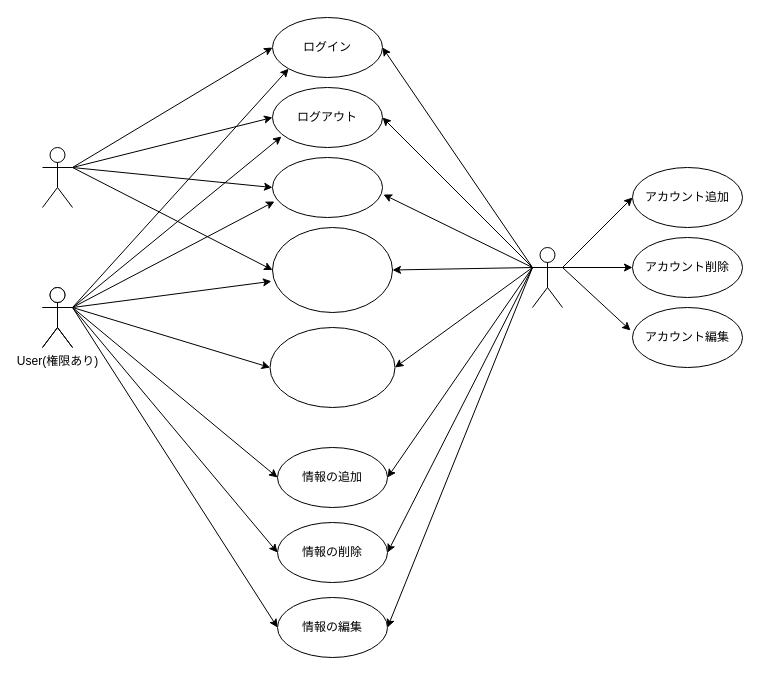
This 760x675 diagram has some shape labels left out. The box of each missing label's shape, as (x1, y1, x2, y2) in pixels:
admin: (532, 246, 562, 308)
User(権限なし): (42, 146, 72, 208)
全病院の情報(患者、先生、電子カルテ)の検索、閲覧: (269, 326, 395, 408)
円グラフ: (272, 156, 382, 218)
所属病院の情報(患者、先生、電子カルテ)の検索、閲覧: (272, 226, 392, 312)
